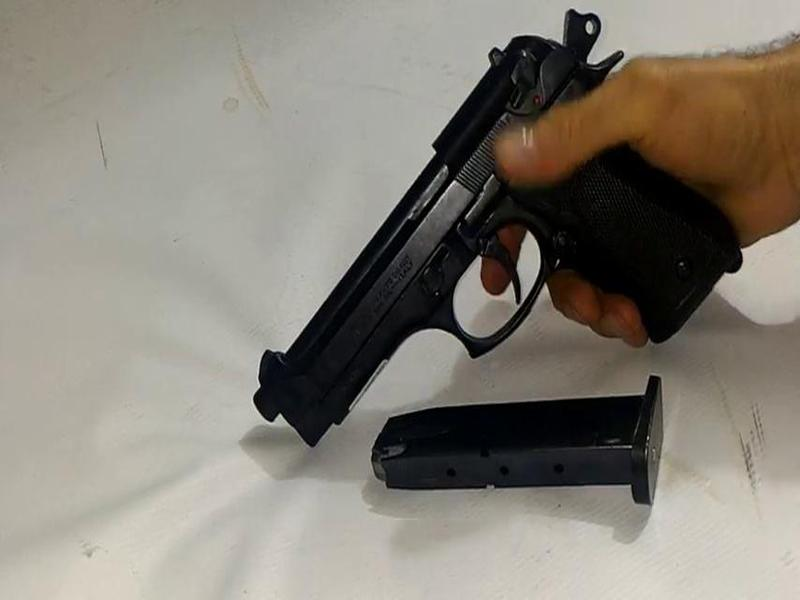Pistola: (215, 11, 757, 464)
